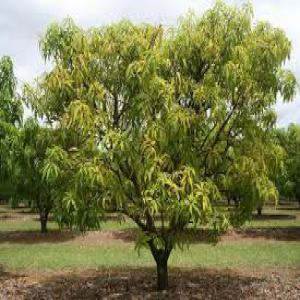Tree: (44, 11, 296, 292)
